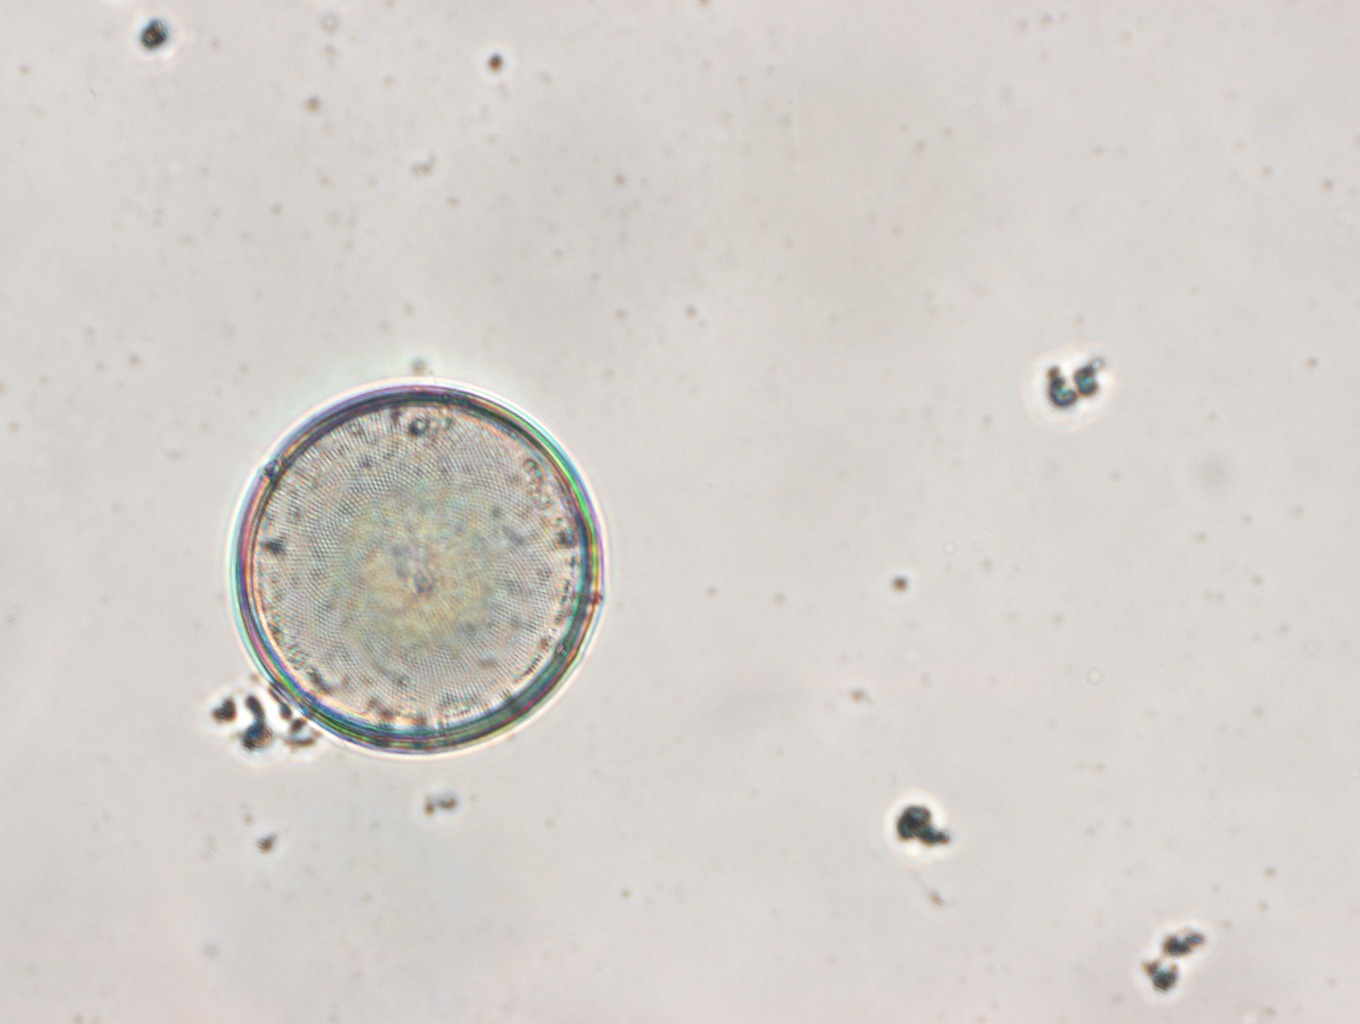coscinodiscus: (228, 381, 609, 757)
